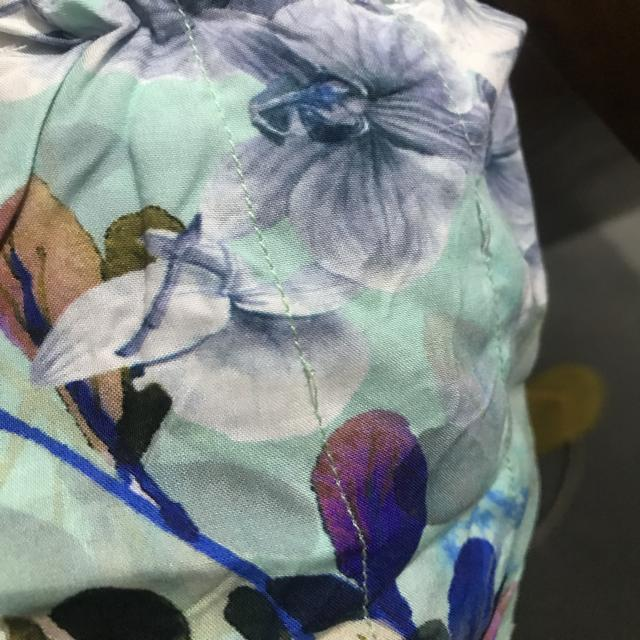good: (248, 240, 309, 325)
skip: (282, 355, 346, 419)
